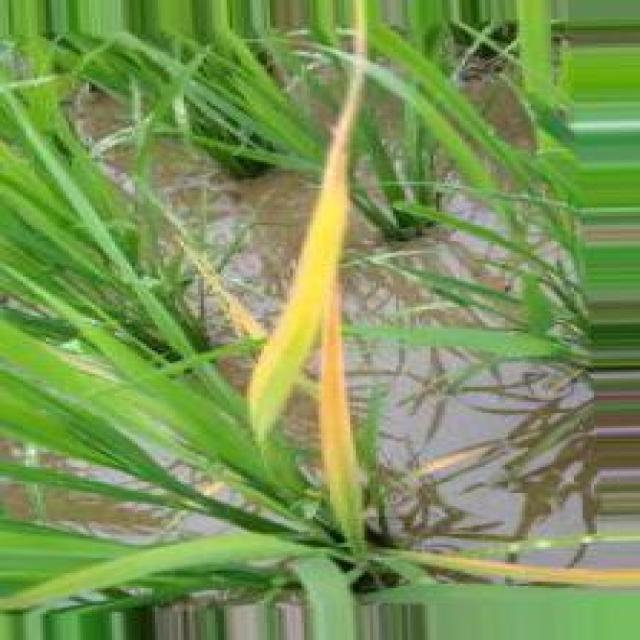Rice Tungro: (247, 20, 367, 442), (320, 274, 362, 542), (180, 240, 265, 339), (402, 553, 639, 587)
